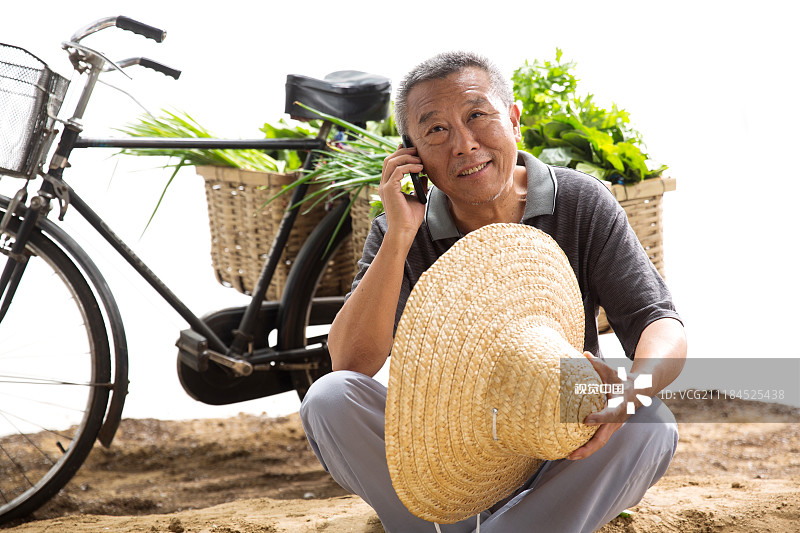calling: (366, 134, 440, 256)
